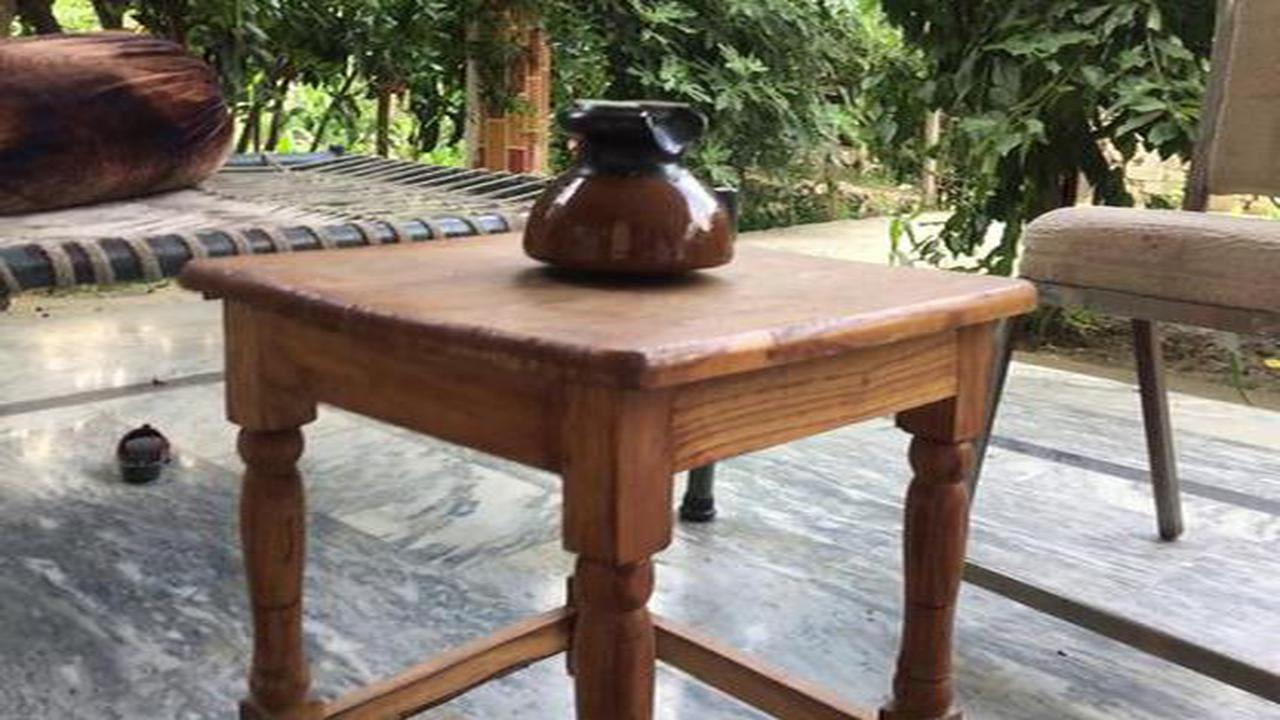insulator_pin: (508, 77, 751, 288)
